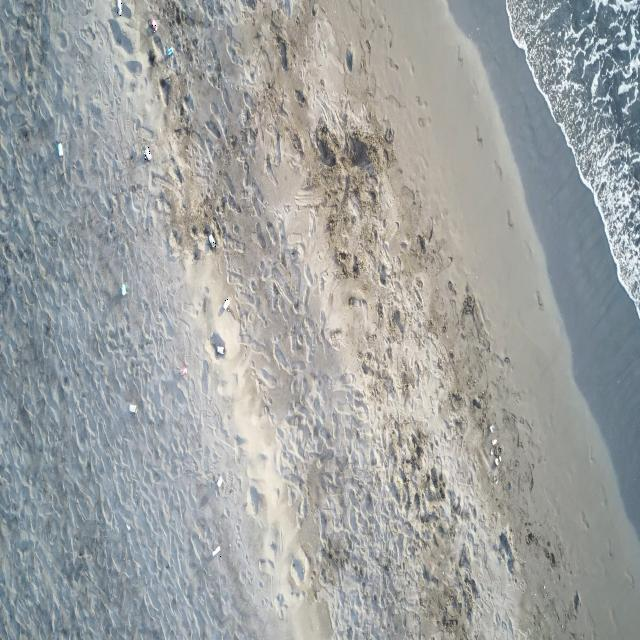tin-and-aluminum-cans: (150, 18, 158, 32), (208, 234, 216, 248), (212, 545, 221, 557), (216, 475, 224, 488), (56, 141, 62, 158), (144, 147, 151, 161), (223, 298, 230, 311), (166, 46, 174, 57), (129, 404, 138, 413), (217, 346, 225, 356), (117, 0, 122, 16), (180, 366, 187, 376), (121, 284, 126, 296)
